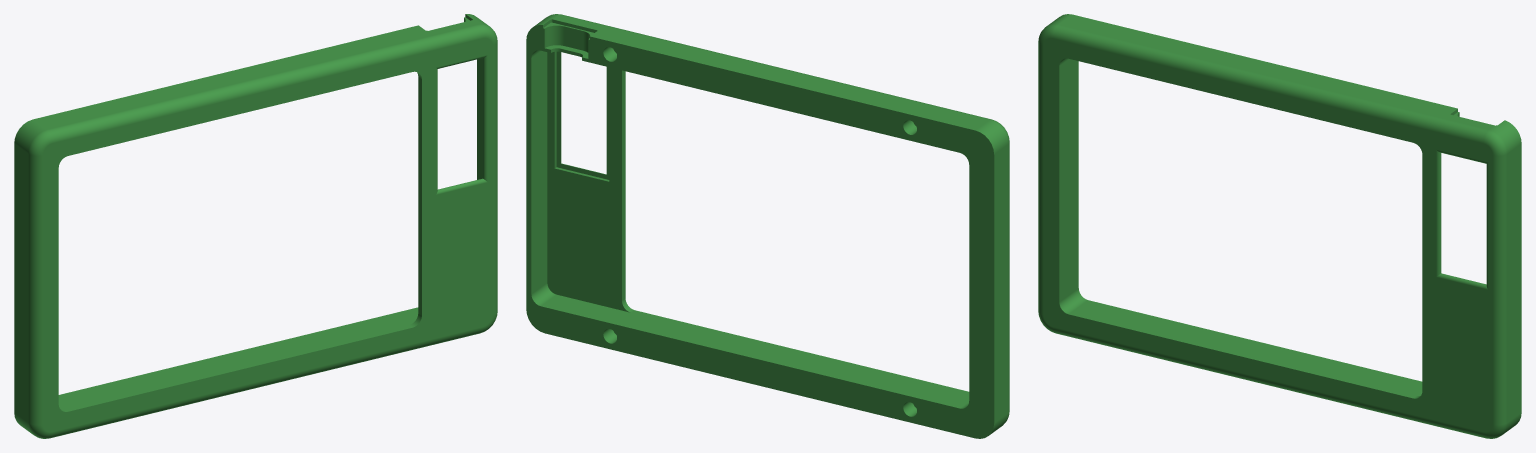
The model's file is theclassic-top.obj.
3 views of the same model, side by side, from view 1: azimuth 30°, elevation 25°; view 2: azimuth 150°, elevation 25°; view 3: azimuth 330°, elevation 25° (orthographic).
Visible parts, largest first — view 1: Top; view 2: Top; view 3: Top.
Boxes of the visible parts, bbox=[...] form: Top: bbox=[14, 14, 497, 438]; Top: bbox=[526, 14, 1009, 438]; Top: bbox=[1038, 14, 1521, 438].
Size of the model in its own units: 14.98 by 9.42 by 1.08.
